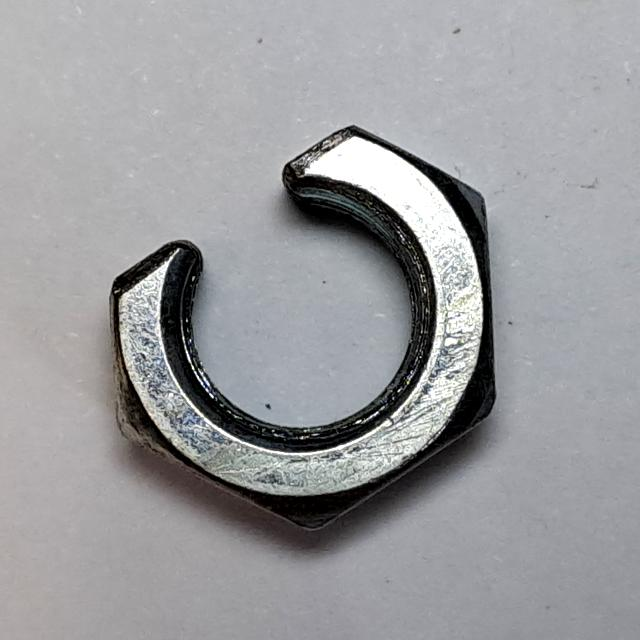Fracture: (98, 104, 517, 553)
